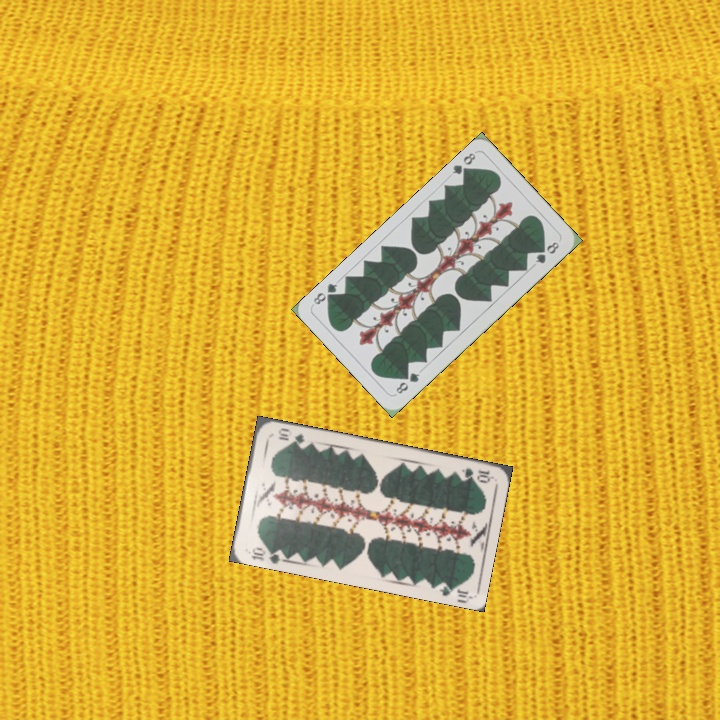G10: (247, 543, 287, 566), (458, 464, 494, 485)
G8: (448, 149, 478, 180), (392, 369, 422, 397)
